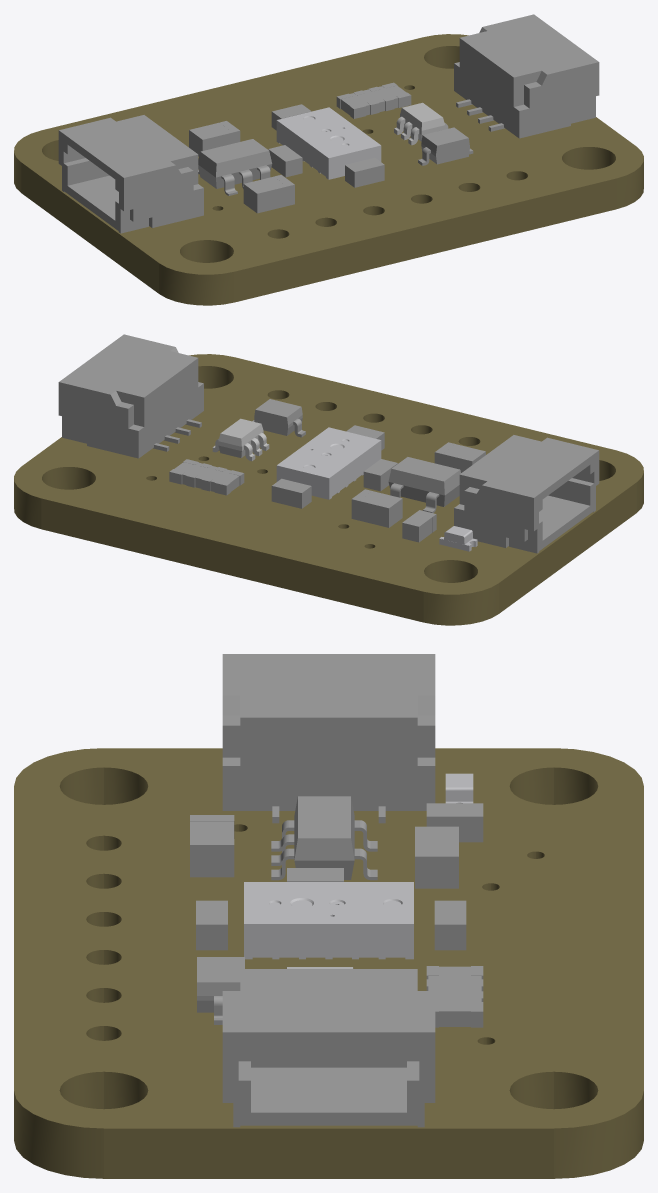
File: ada-3316.glb
3 renders of one model, top to bottom at view 1: azimuth 30°, elevation 25°; view 2: azimuth 150°, elevation 25°; view 3: azimuth 270°, elevation 25°, orthographic. The views are drawn at different scales.
Visible parts, largest first — view 1: 0.16666666666666666_0.16666666666666666_0.08333333333333333_, 0.3333333333333333_0.3333333333333333_0.3333333333333333_0, 0.5833333333333334_0.5833333333333334_0.5833333333333334_0.8, 0.5_0.5_0.5_0.85; view 2: 0.16666666666666666_0.16666666666666666_0.08333333333333333_, 0.3333333333333333_0.3333333333333333_0.3333333333333333_0, 0.5833333333333334_0.5833333333333334_0.5833333333333334_0.8, 0.5_0.5_0.5_0.85; view 3: 0.16666666666666666_0.16666666666666666_0.08333333333333333_, 0.3333333333333333_0.3333333333333333_0.3333333333333333_0, 0.5833333333333334_0.5833333333333334_0.5833333333333334_0.8.
Part boxes in pixels (x1=…): 0.16666666666666666_0.16666666666666666_0.08333333333333333_: x1=14, y1=34, x2=643, y2=305; 0.3333333333333333_0.3333333333333333_0.3333333333333333_0: x1=58, y1=14, x2=599, y2=233; 0.5833333333333334_0.5833333333333334_0.5833333333333334_0.8: x1=276, y1=107, x2=381, y2=179; 0.5_0.5_0.5_0.85: x1=394, y1=102, x2=448, y2=145; 0.16666666666666666_0.16666666666666666_0.08333333333333333_: x1=14, y1=354, x2=643, y2=625; 0.3333333333333333_0.3333333333333333_0.3333333333333333_0: x1=58, y1=334, x2=599, y2=553; 0.5833333333333334_0.5833333333333334_0.5833333333333334_0.8: x1=276, y1=427, x2=477, y2=551; 0.5_0.5_0.5_0.85: x1=212, y1=418, x2=269, y2=461; 0.16666666666666666_0.16666666666666666_0.08333333333333333_: x1=14, y1=748, x2=643, y2=1178; 0.3333333333333333_0.3333333333333333_0.3333333333333333_0: x1=190, y1=654, x2=483, y2=1127; 0.5833333333333334_0.5833333333333334_0.5833333333333334_0.8: x1=244, y1=773, x2=473, y2=959.
Bounding box in the file's own units: 2.54 × 0.4529 × 1.78.
